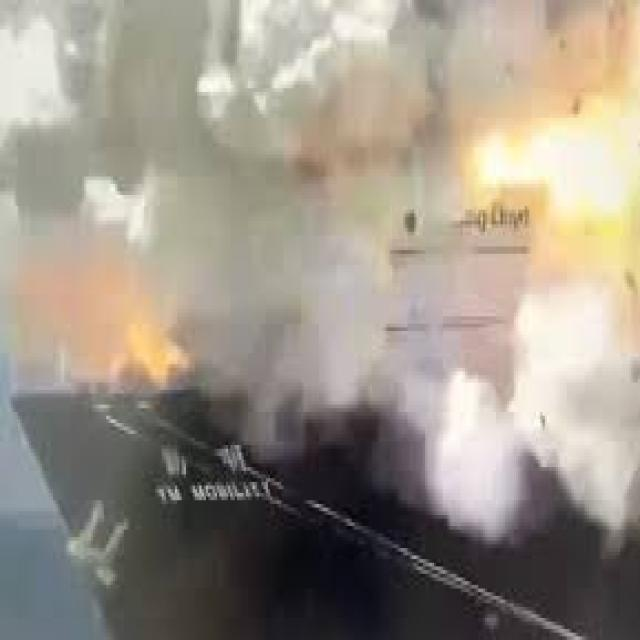explosion: (70, 0, 640, 531)
